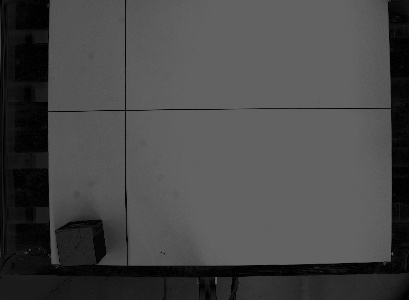b7: (52, 218, 106, 269)
